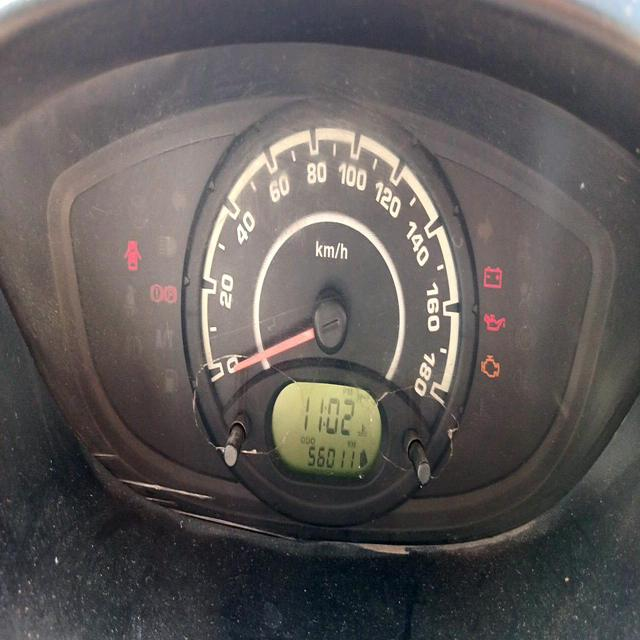odometer: (305, 444, 357, 476)
